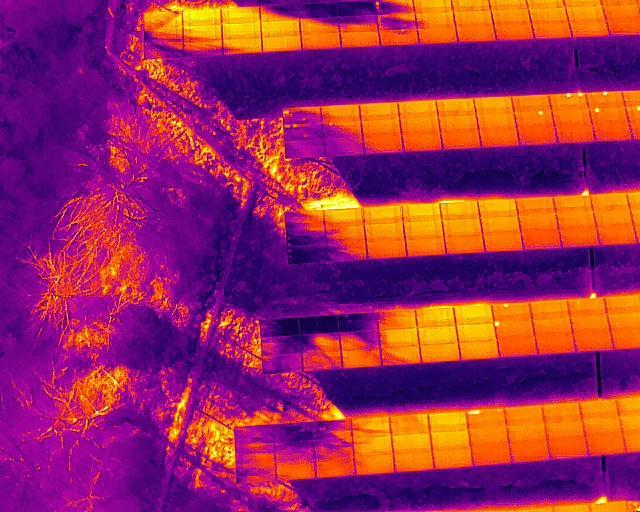Cell: (513, 109, 554, 128), (492, 320, 534, 338), (589, 108, 630, 124), (492, 304, 532, 320), (375, 0, 415, 15)
Cell-Multi: (586, 91, 628, 108), (283, 107, 322, 125), (549, 93, 590, 110), (284, 124, 323, 139)
No-Anomaly: (586, 432, 624, 455), (547, 436, 586, 457), (432, 449, 471, 470), (418, 344, 460, 363), (510, 442, 548, 463), (415, 326, 459, 344), (542, 402, 581, 422), (592, 123, 633, 142), (533, 337, 576, 355), (496, 338, 539, 356), (341, 349, 381, 368), (353, 436, 393, 455), (471, 446, 511, 465), (353, 456, 393, 475), (314, 459, 354, 478), (378, 328, 420, 346), (458, 341, 500, 359), (405, 237, 447, 255), (390, 415, 429, 434), (469, 427, 508, 446), (394, 453, 433, 472), (573, 334, 614, 352), (554, 125, 595, 143), (483, 231, 524, 249), (361, 138, 404, 155), (505, 406, 543, 425), (530, 300, 570, 318), (453, 305, 493, 323), (401, 118, 441, 136), (559, 228, 599, 246), (522, 229, 562, 247), (400, 204, 442, 221), (429, 413, 466, 432), (568, 298, 607, 316), (378, 309, 417, 327), (518, 128, 557, 146), (182, 8, 221, 26), (479, 198, 518, 216), (276, 460, 315, 478), (532, 319, 573, 336), (361, 120, 402, 137), (440, 132, 481, 149), (593, 213, 634, 230), (581, 401, 617, 420), (431, 430, 469, 448), (592, 194, 630, 212), (571, 317, 611, 334), (403, 135, 443, 152), (365, 241, 405, 258), (362, 208, 404, 224), (517, 213, 559, 229), (583, 418, 620, 436), (494, 24, 533, 41), (455, 323, 494, 340), (392, 435, 431, 452), (399, 101, 438, 118), (437, 100, 476, 117), (221, 7, 260, 24), (377, 30, 418, 46), (358, 104, 399, 120), (551, 109, 592, 125), (476, 115, 517, 131), (556, 211, 597, 227), (403, 221, 444, 237), (363, 224, 404, 240), (598, 230, 639, 246), (415, 310, 455, 326), (417, 28, 457, 44), (320, 106, 360, 122), (444, 234, 484, 250), (570, 20, 607, 37), (456, 24, 493, 41), (476, 98, 513, 115), (261, 20, 300, 36), (545, 422, 584, 438), (415, 13, 454, 29), (517, 197, 556, 213), (478, 132, 519, 147), (532, 21, 570, 37), (300, 33, 338, 49), (507, 425, 545, 441), (221, 23, 261, 38), (511, 94, 551, 109), (439, 117, 479, 132), (323, 210, 363, 225), (443, 219, 483, 234), (340, 33, 379, 48), (440, 203, 479, 218), (553, 196, 594, 210), (480, 216, 521, 230), (529, 7, 567, 22), (261, 37, 301, 51), (567, 6, 606, 20), (493, 10, 531, 24), (605, 5, 640, 20), (453, 11, 493, 24), (606, 20, 640, 35)
Shadowing: (235, 461, 276, 482), (311, 421, 353, 440), (234, 443, 276, 462), (300, 333, 341, 352), (260, 353, 302, 371), (311, 441, 353, 459), (351, 417, 390, 436), (235, 424, 274, 443), (283, 139, 324, 157), (379, 347, 421, 364), (286, 244, 325, 262), (339, 313, 378, 331), (272, 424, 311, 442), (274, 442, 313, 460), (323, 122, 362, 140), (325, 243, 366, 260), (300, 316, 340, 333), (260, 319, 300, 336), (340, 332, 380, 349), (301, 352, 341, 369), (144, 12, 183, 29), (377, 13, 416, 30), (143, 43, 182, 60), (260, 336, 301, 352), (323, 140, 364, 156), (325, 226, 366, 242), (299, 18, 339, 34), (259, 5, 299, 21), (338, 16, 378, 32), (336, 0, 376, 16), (286, 227, 325, 243), (181, 26, 222, 41), (222, 40, 263, 55), (181, 42, 222, 57), (143, 28, 182, 43), (299, 3, 337, 18), (286, 211, 324, 226)
Unclassified: (467, 408, 506, 427)
